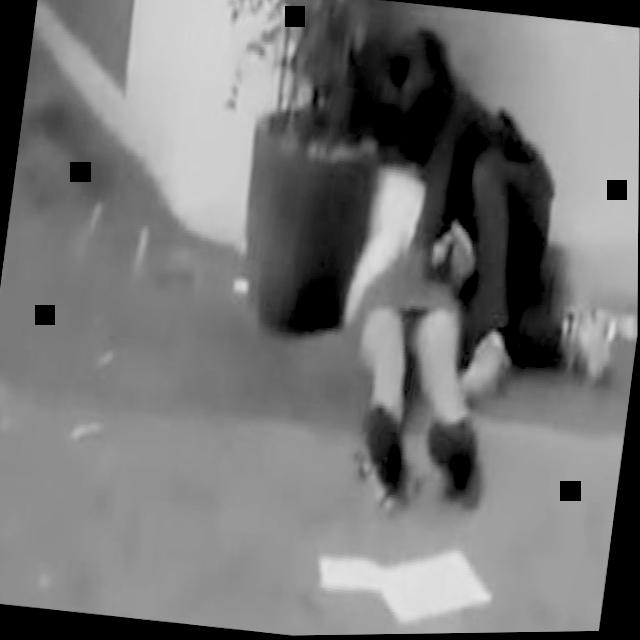Fall-Detected: (310, 24, 640, 439)
